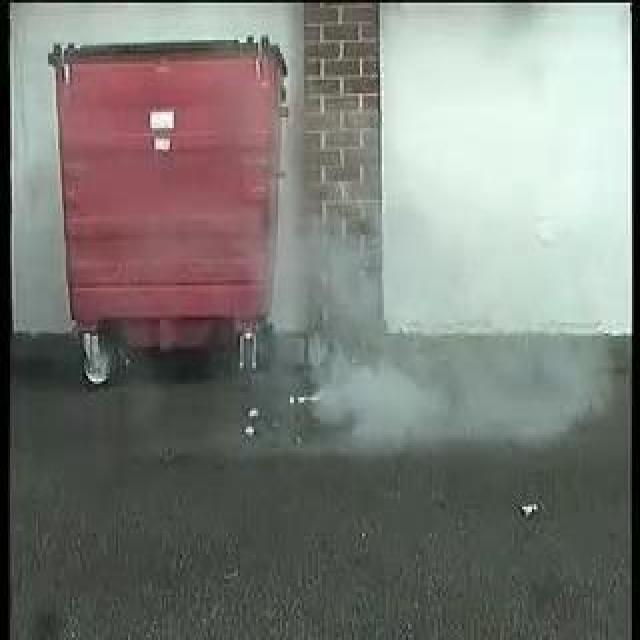Smoke: (274, 213, 408, 435)
